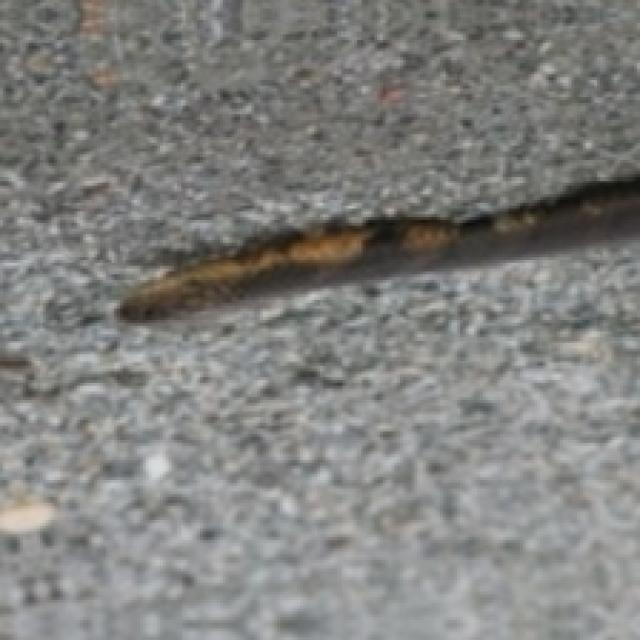king cobra: (117, 206, 551, 320)
